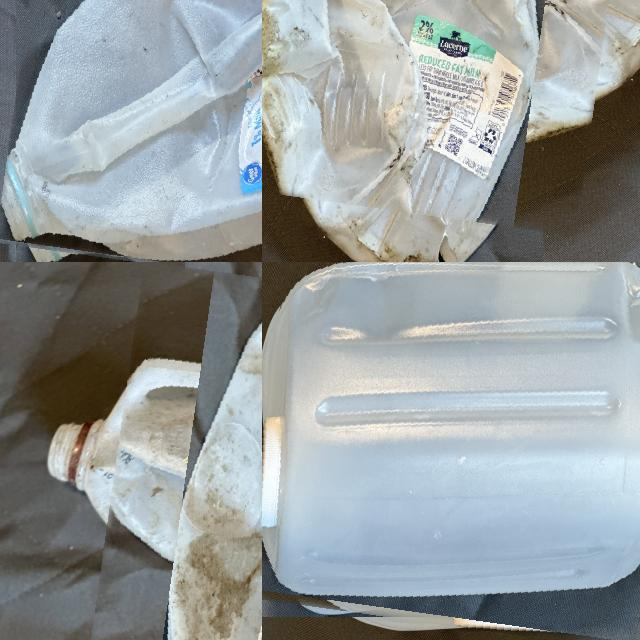milk-jug: (262, 262, 640, 639), (262, 0, 618, 223), (6, 0, 262, 262), (100, 274, 262, 640)
